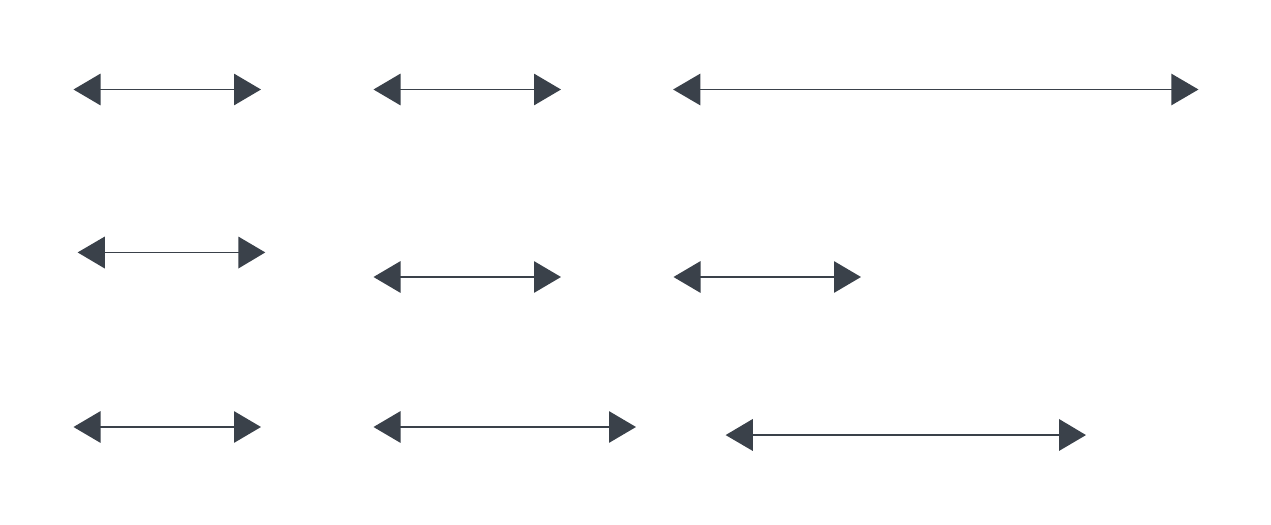bi_horizontal: (667, 65, 1203, 110), (723, 415, 1093, 461), (368, 405, 641, 451), (371, 254, 564, 302), (75, 64, 262, 112), (69, 404, 264, 450), (671, 255, 865, 301), (75, 234, 266, 277), (371, 72, 560, 112)
